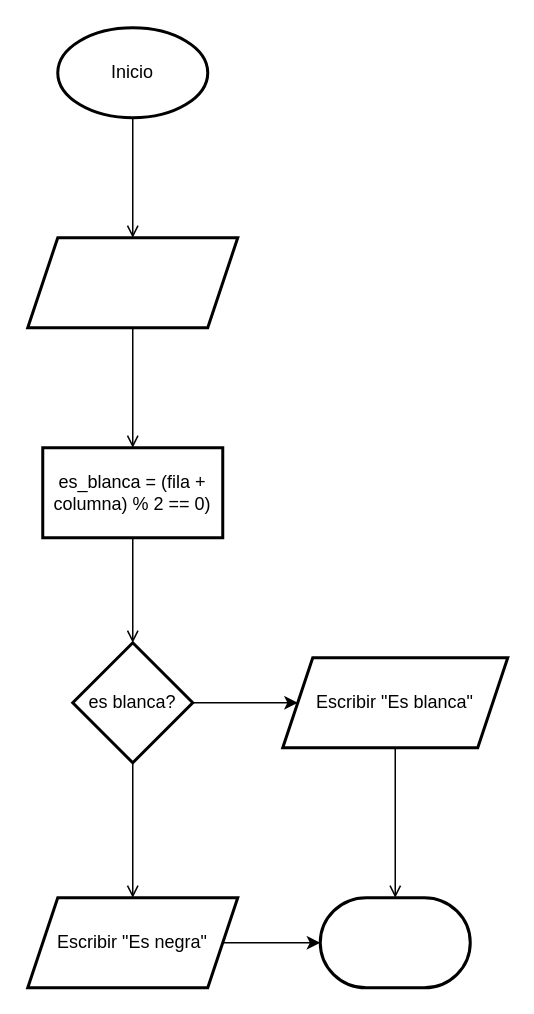
This 534x1014 diagram has some shape labels left out. Each missing label, with the centre of its shape:
"Fin" belongs at (x=394, y=942).
"Leer fila, columna" belongs at (x=132, y=282).
